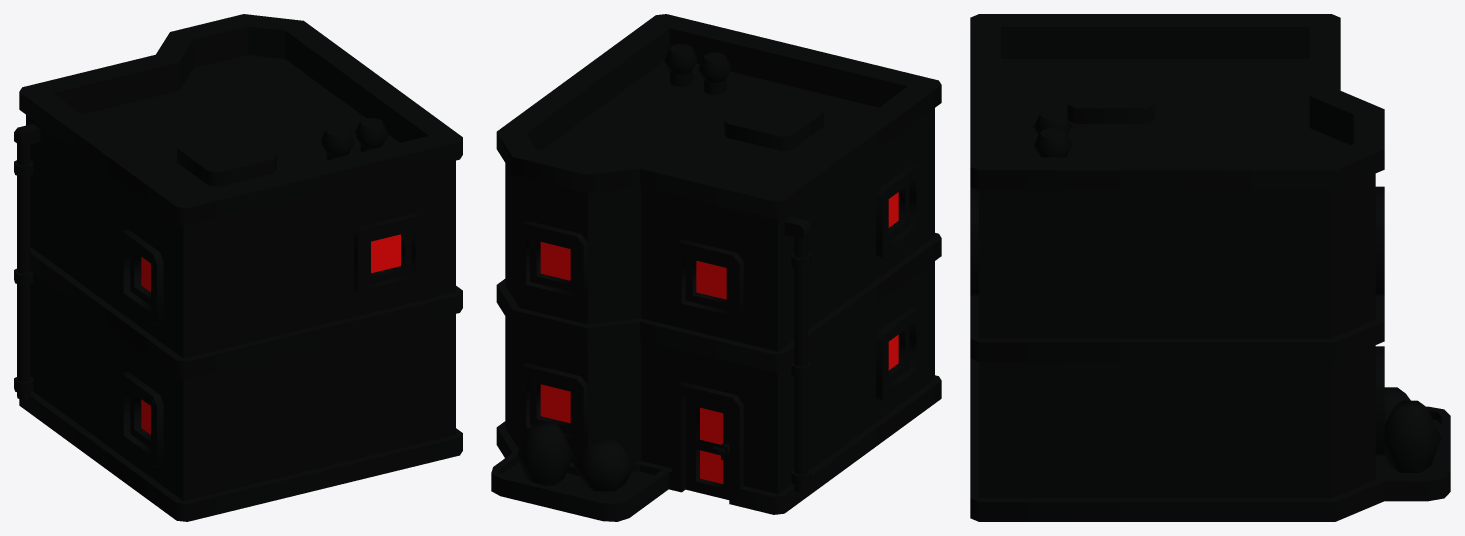
File: building-c.glb
The picture shows the model from 3 angles, left to right: view 1: azimuth 30°, elevation 25°; view 2: azimuth 150°, elevation 25°; view 3: azimuth 270°, elevation 25°; orthographic projection. The views are drawn at different scales.
Parts seen in each view (by area): view 1: building-c; view 2: building-c; view 3: building-c.
Part boxes in pixels (box(x1,y1,x2,y2)): building-c: box(14, 14, 462, 521); building-c: box(491, 14, 941, 521); building-c: box(970, 14, 1450, 521).
Size of the model in its own units: 0.8834 by 0.8931 by 1.09.
Materials: 1 (1 with a texture image).
